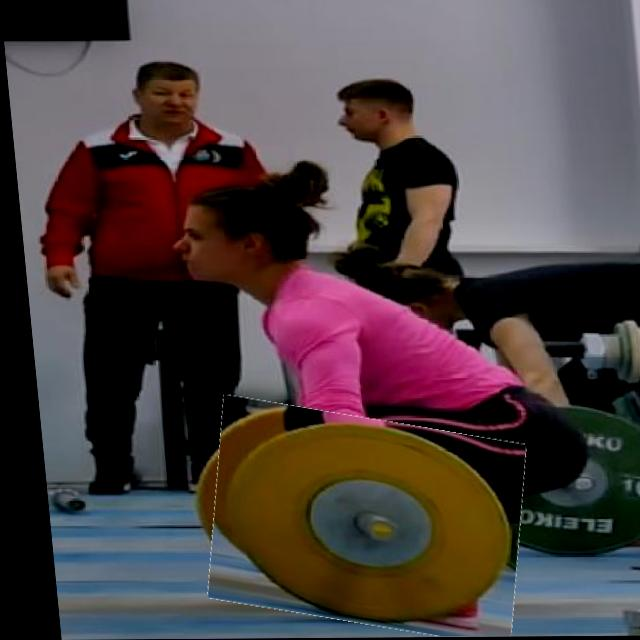barbell: (190, 407, 525, 639)
